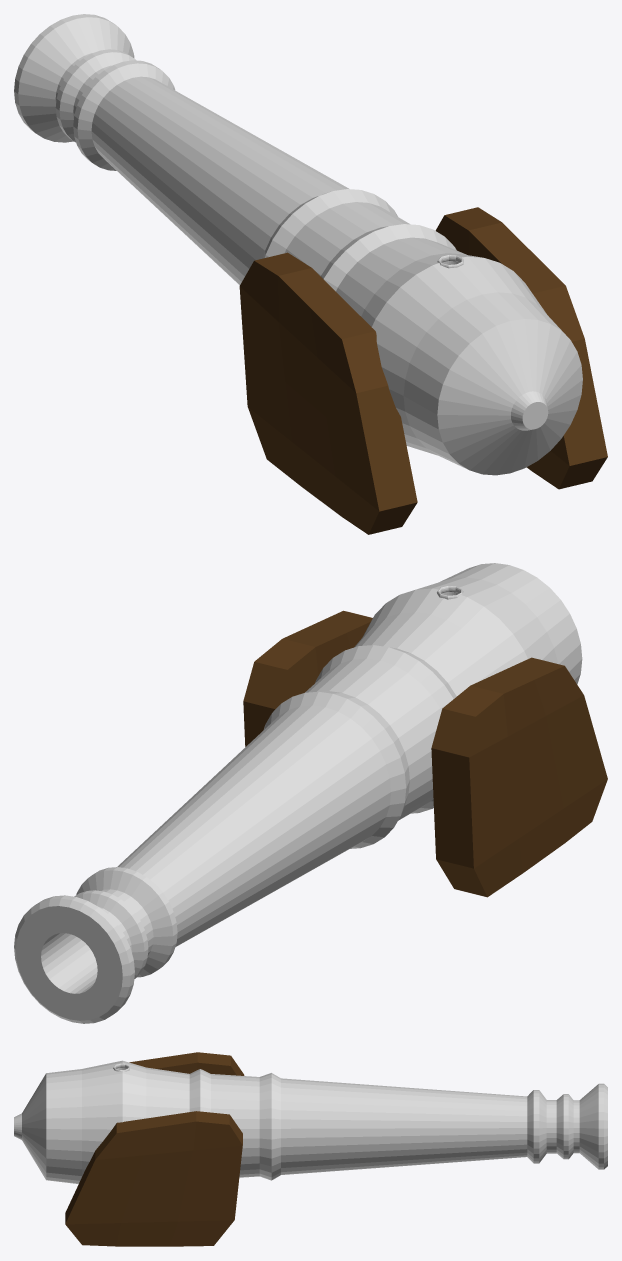
The model's file is Cannon1.fbx.
The picture shows the model from 3 angles, top to bottom: view 1: azimuth 30°, elevation 25°; view 2: azimuth 150°, elevation 25°; view 3: azimuth 270°, elevation 25°; orthographic projection. The views are drawn at different scales.
Parts seen in each view (by area): view 1: Cannon barrel.002, Cannon mount.001; view 2: Cannon barrel.002, Cannon mount.001; view 3: Cannon barrel.002, Cannon mount.001.
Boxes of the visible parts, x1,y1,x2,y2 form: Cannon barrel.002: (14, 14, 582, 475); Cannon mount.001: (239, 207, 607, 534); Cannon barrel.002: (14, 563, 582, 1023); Cannon mount.001: (243, 610, 607, 897); Cannon barrel.002: (14, 1060, 607, 1183); Cannon mount.001: (65, 1052, 244, 1246).
Size of the model in its own units: 77.59 by 73.66 by 273.
